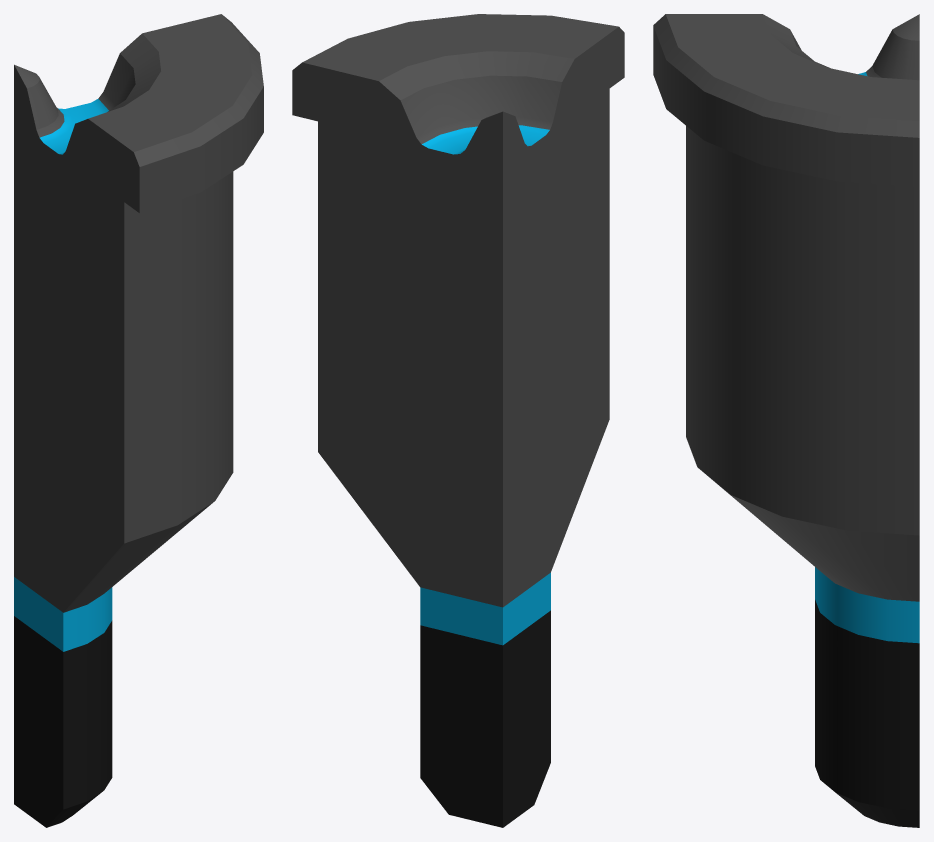
File: Floor_Edge_Corner_01.fbx
3 views of the same model, side by side, from view 1: azimuth 30°, elevation 25°; view 2: azimuth 150°, elevation 25°; view 3: azimuth 270°, elevation 25° (orthographic). The views are drawn at different scales.
Parts seen in each view (by area): view 1: Floor_Edge_Corner_01; view 2: Floor_Edge_Corner_01; view 3: Floor_Edge_Corner_01.
Boxes of the visible parts, x1=… form: Floor_Edge_Corner_01: x1=14, y1=14, x2=263, y2=827; Floor_Edge_Corner_01: x1=292, y1=14, x2=624, y2=827; Floor_Edge_Corner_01: x1=653, y1=14, x2=919, y2=827.
Size of the model in its own units: 200 by 650 by 200.
